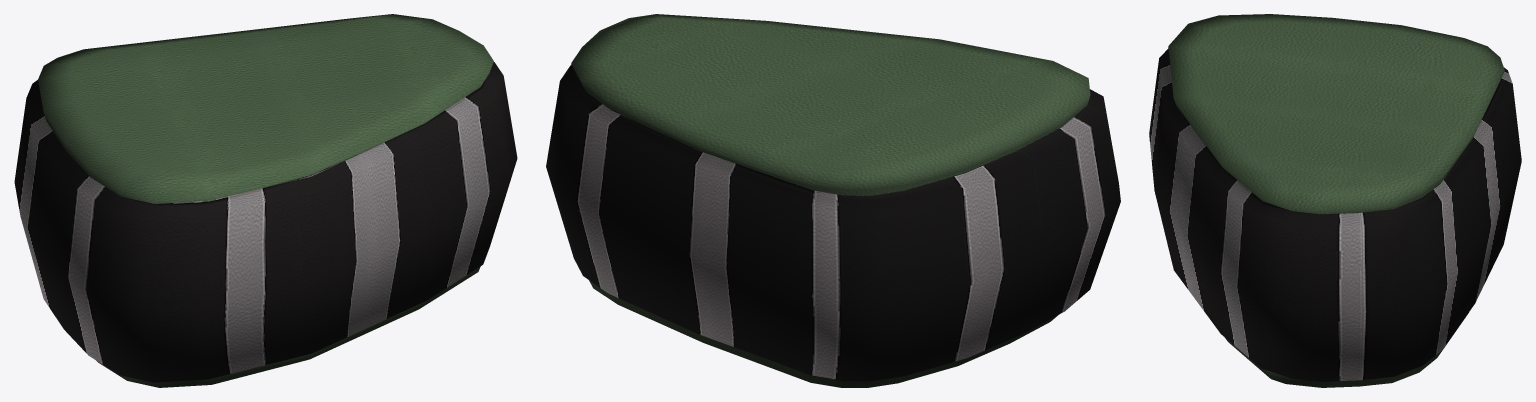
The model's file is buttchair-6.FBX.
The picture shows the model from 3 angles, left to right: view 1: azimuth 30°, elevation 25°; view 2: azimuth 150°, elevation 25°; view 3: azimuth 270°, elevation 25°; orthographic projection. The views are drawn at different scales.
Parts seen in each view (by area): view 1: buttchair-6_LOD0; view 2: buttchair-6_LOD0; view 3: buttchair-6_LOD0.
Part boxes in pixels (x1,y1,x2,y2): buttchair-6_LOD0: [14, 14, 517, 387]; buttchair-6_LOD0: [546, 14, 1120, 387]; buttchair-6_LOD0: [1149, 14, 1521, 387].
Size of what is drawn, in the model's own units: 30.62 by 13.37 by 22.59.
